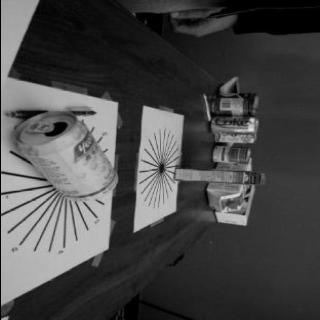alumunium_can: (9, 111, 120, 203), (209, 115, 259, 136)
